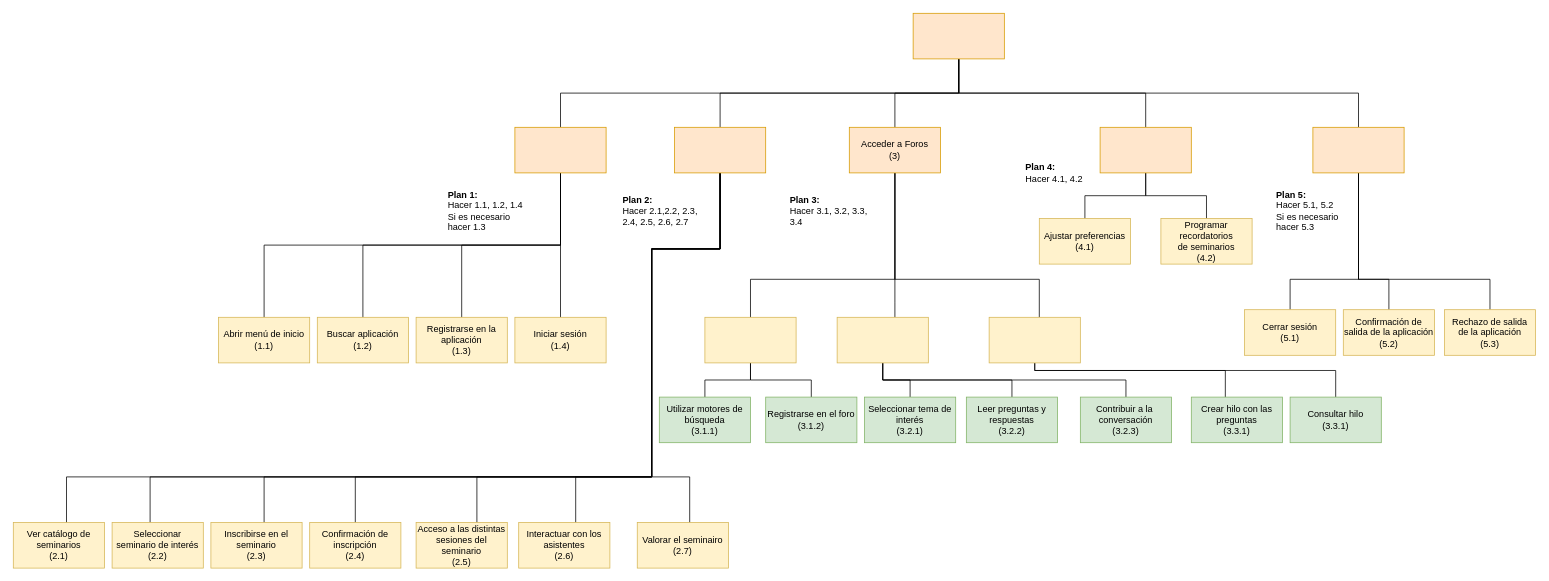
This 1549x581 diagram has some shape labels left out. The box of each missing label's shape, as (x1, y1, x2, y2) in pixels:
Acceder a Seminarios (2): (674, 127, 766, 173)
Buscar foros relevantes (3.1): (704, 317, 796, 363)
Configurar notificaciones (4): (1099, 127, 1191, 173)
Disposición de recursos informativos (0): (912, 13, 1004, 59)
Iniciar la aplicación (1): (514, 127, 606, 173)
Navegación por temas y discusiones interesantes (3.2): (836, 317, 928, 363)
Publicación preguntas y obtención respuestas (3.3): (988, 317, 1080, 363)
Salir de la aplicación (5): (1312, 127, 1404, 173)
